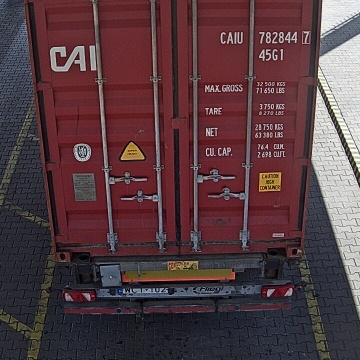serial_id: (220, 30, 310, 44)
